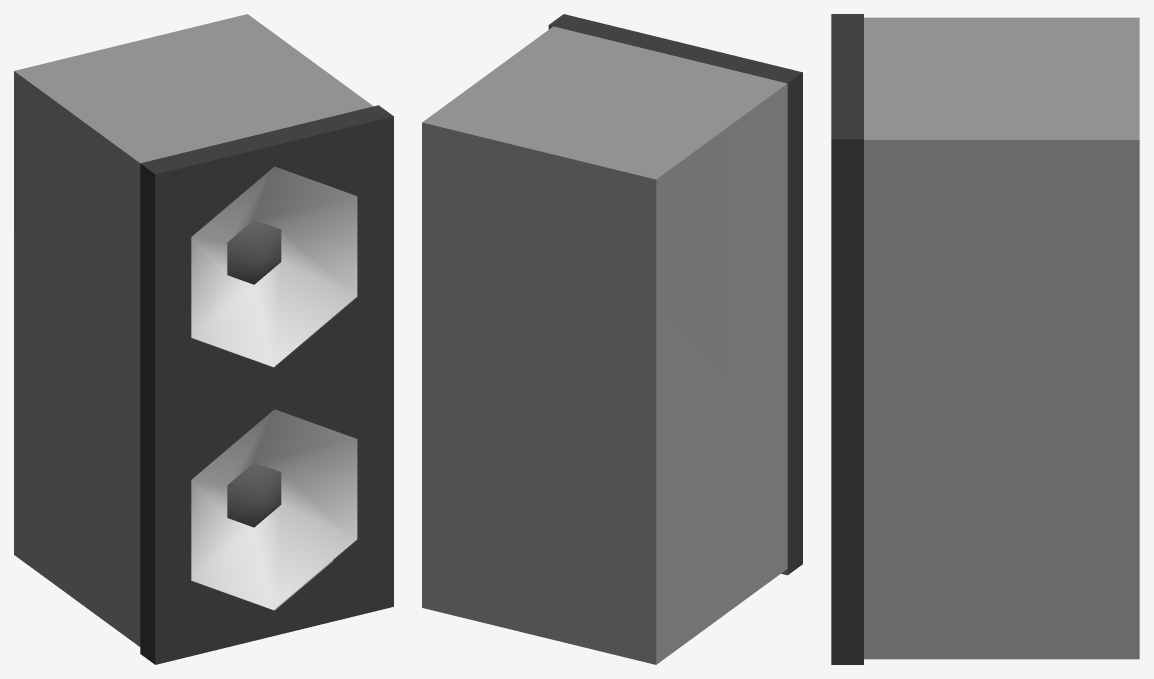
The model's file is musical_instrument_006.glb.
3 renders of one model, left to right at view 1: azimuth 30°, elevation 25°; view 2: azimuth 150°, elevation 25°; view 3: azimuth 270°, elevation 25°, orthographic. The views are drawn at different scales.
Parts seen in each view (by area): view 1: musical_instrument_006; view 2: musical_instrument_006; view 3: musical_instrument_006.
Boxes of the visible parts, bbox=[...] form: musical_instrument_006: bbox=[14, 14, 393, 664]; musical_instrument_006: bbox=[422, 14, 802, 664]; musical_instrument_006: bbox=[831, 14, 1139, 664].
Bounding box in the file's own units: 0.1946 × 0.3824 × 0.2032.
Materials: 1 (1 with a texture image).
